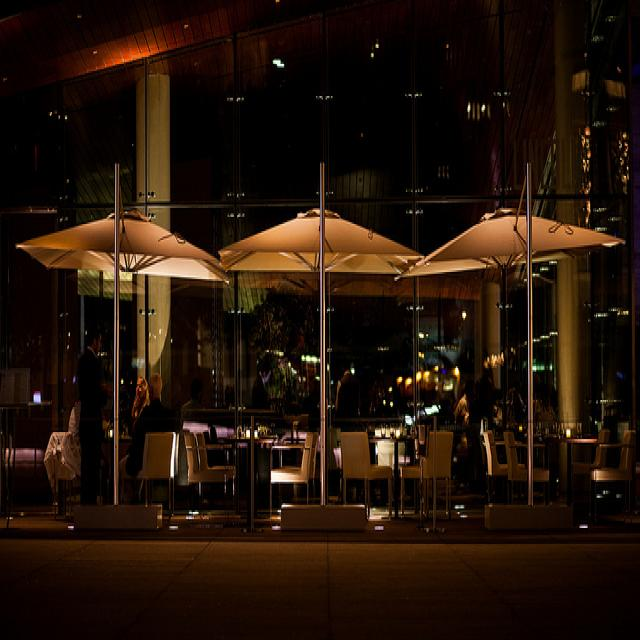chair: (341, 432, 393, 521), (402, 431, 454, 518), (589, 429, 635, 522), (271, 431, 317, 516), (137, 431, 176, 518), (182, 428, 228, 500), (147, 433, 179, 510), (503, 432, 530, 503), (484, 431, 509, 496), (328, 429, 342, 503), (378, 440, 396, 471), (196, 431, 208, 470)
dining table: (218, 437, 279, 530), (368, 437, 414, 520), (563, 437, 598, 496), (516, 442, 547, 466), (102, 436, 113, 471), (272, 443, 304, 450)
